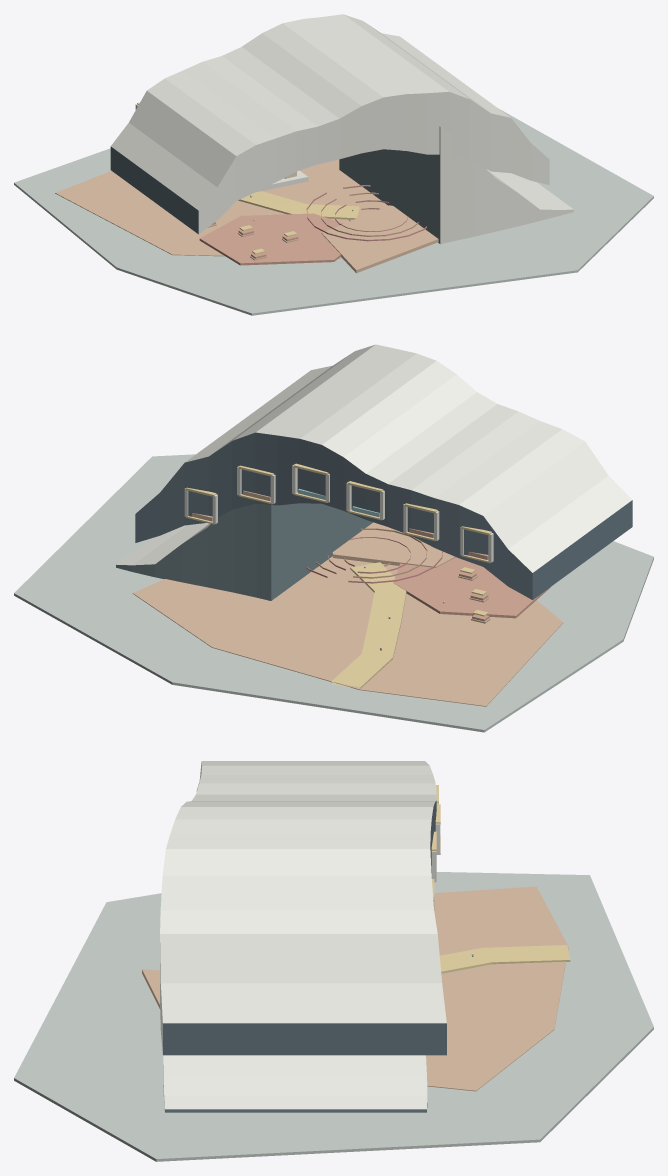
Rendered from a45_civic_pocket_fold.glb.
3 views of the same model, one above another, from view 1: azimuth 30°, elevation 25°; view 2: azimuth 150°, elevation 25°; view 3: azimuth 270°, elevation 25° (orthographic). The views are drawn at different scales.
Size of the model in its own units: 193 by 60.88 by 180.
